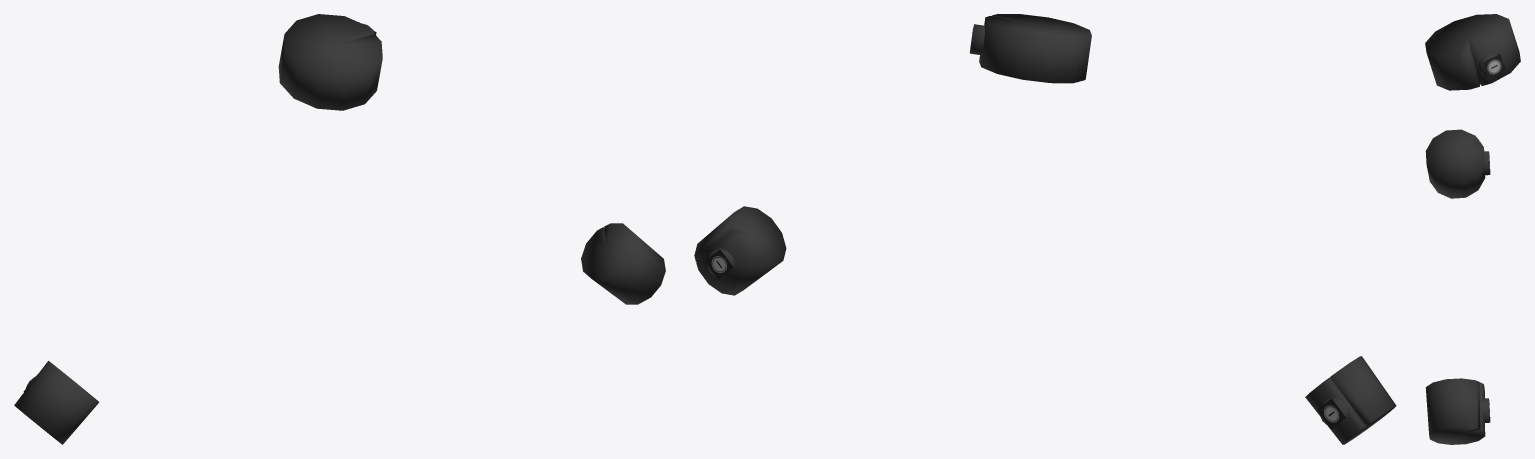
The model's file is Collar-Cuffs.fbx.
The picture shows the model from 3 angles, left to right: view 1: azimuth 30°, elevation 25°; view 2: azimuth 150°, elevation 25°; view 3: azimuth 270°, elevation 25°; orthographic projection. The views are drawn at different scales.
Visible parts, largest first — view 1: カスタム少女_mesh; view 2: カスタム少女_mesh; view 3: カスタム少女_mesh.
Part boxes in pixels (x1=…): カスタム少女_mesh: x1=14, y1=14, x2=665, y2=444; カスタム少女_mesh: x1=694, y1=14, x2=1396, y2=444; カスタム少女_mesh: x1=1425, y1=14, x2=1520, y2=444.
Size of the model in its own units: 83.73 by 41.7 by 12.19.
3 materials, 3 textured.
